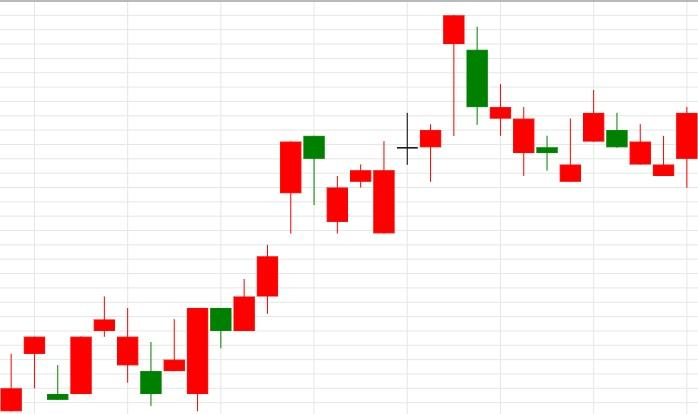hanging_man_fall: (186, 135, 326, 411), (372, 14, 466, 233)
inverse_hammer_rise: (442, 13, 582, 183)
